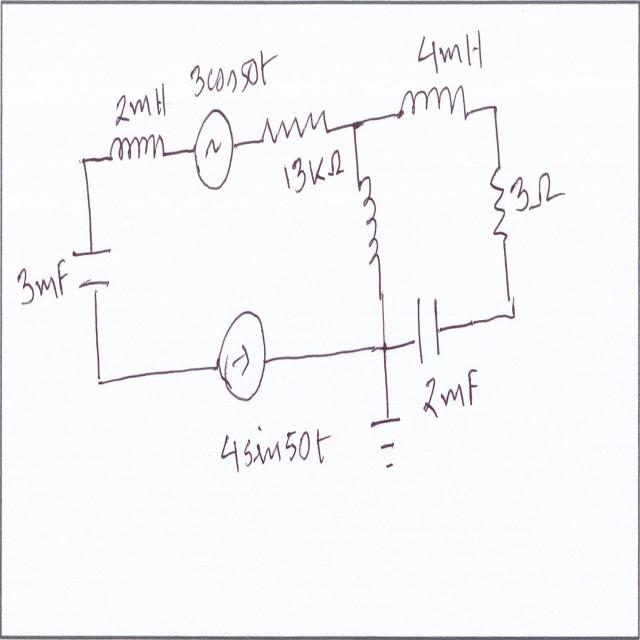capacitor: (67, 242, 117, 294), (414, 290, 443, 370)
current_source: (216, 308, 268, 401)
ground: (369, 414, 405, 478)
inductor: (394, 82, 465, 124), (356, 167, 382, 270), (108, 128, 164, 166)
resistor: (264, 114, 330, 148), (487, 162, 509, 245)
